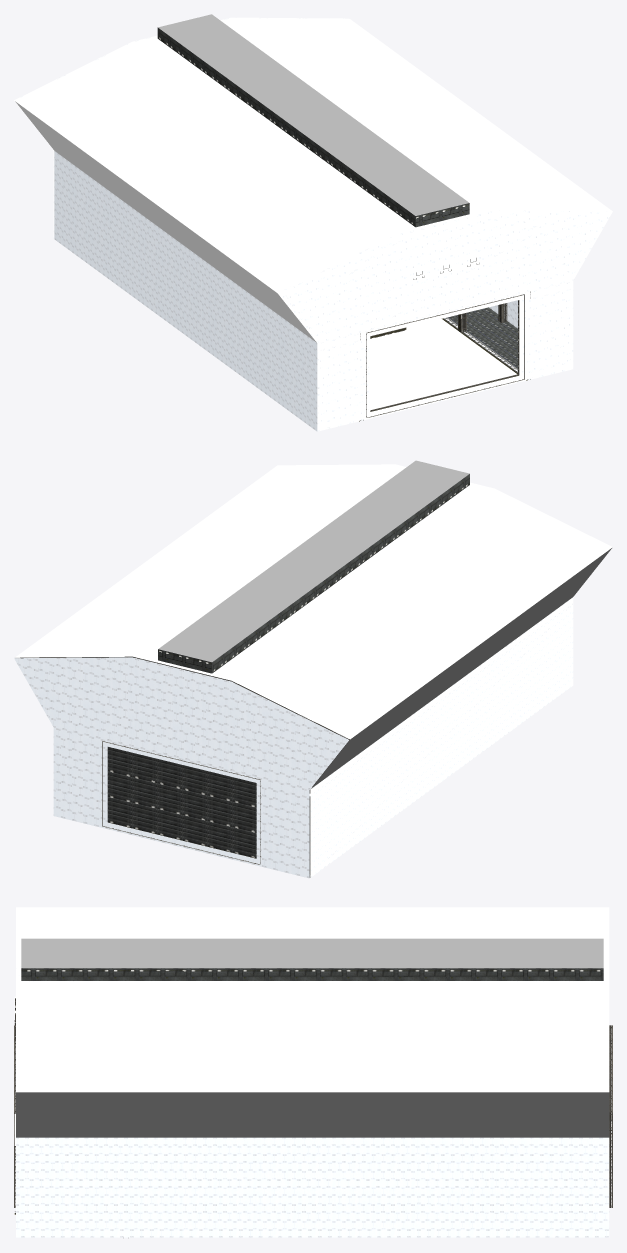
Rendered from SM_Hall.fbx.
The picture shows the model from 3 angles, top to bottom: view 1: azimuth 30°, elevation 25°; view 2: azimuth 150°, elevation 25°; view 3: azimuth 270°, elevation 25°; orthographic projection. The views are drawn at different scales.
Visible parts, largest first — view 1: SM_Hall_LOD0; view 2: SM_Hall_LOD0; view 3: SM_Hall_LOD0.
Part boxes in pixels (x1,y1,x2,y2): SM_Hall_LOD0: (14,14,612,431); SM_Hall_LOD0: (14,460,612,878); SM_Hall_LOD0: (14,907,612,1237).
Bounding box in the file's own units: 2358 × 3229 × 1319.
